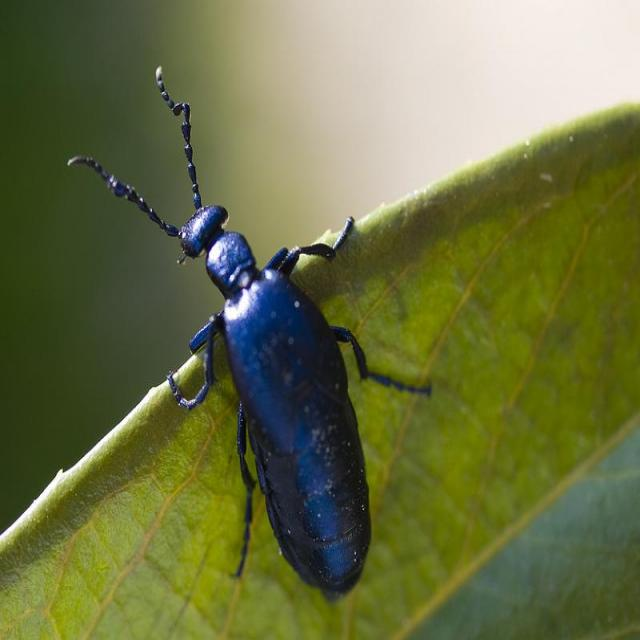BlisterBeetle-Adult-: (54, 50, 439, 606)
